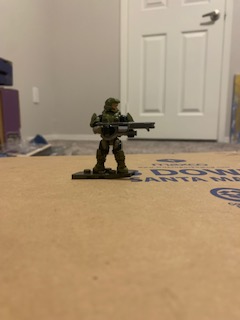soldier: (88, 95, 160, 177)
